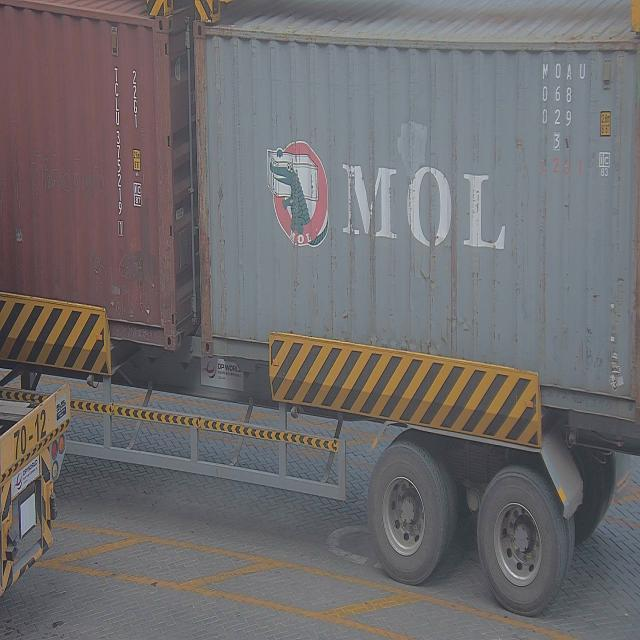rust: (187, 20, 221, 356)
